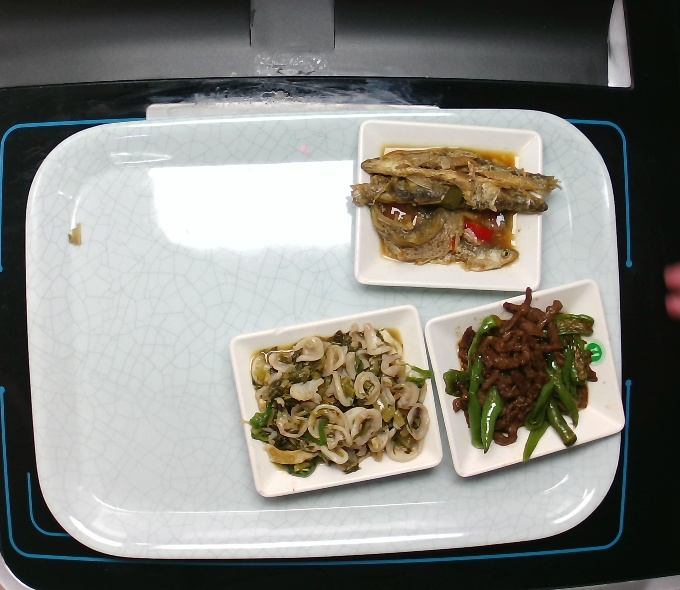wcq-QingJiaoNiuRou: (440, 284, 605, 468)
wcq-XiaoXiYu: (346, 141, 566, 278)
wcq-XueCaiYouYu: (243, 319, 443, 484)
